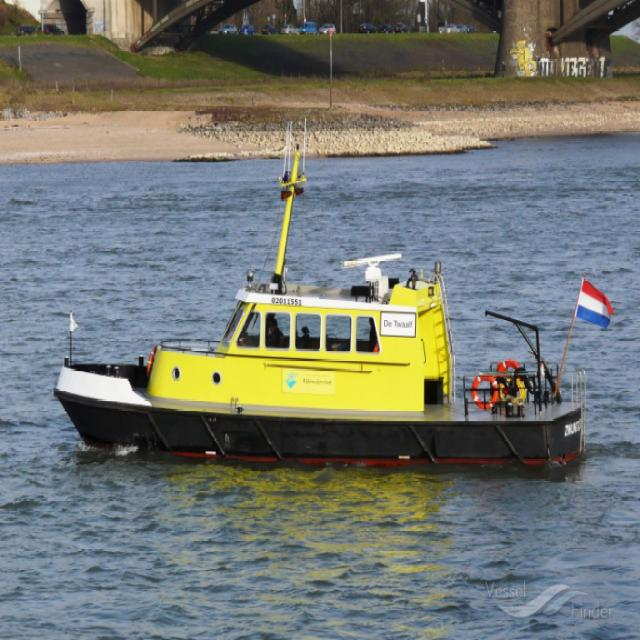OCR: (381, 312, 417, 336)
